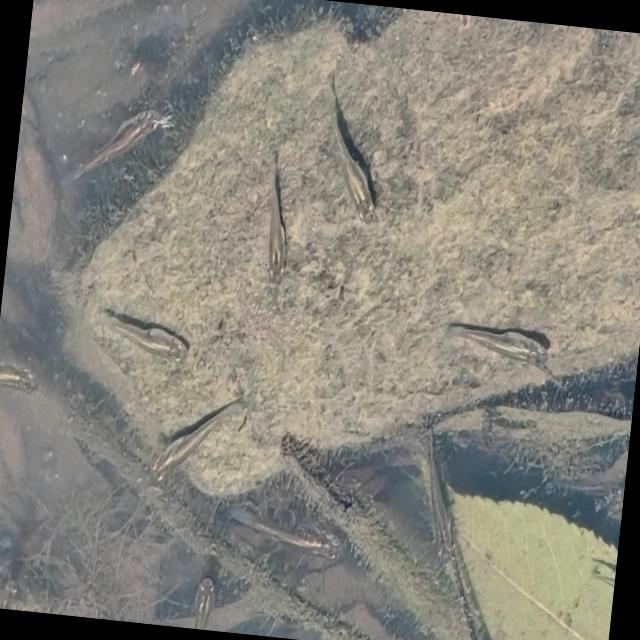Sivrisinek Baligi: (57, 88, 183, 226), (146, 377, 252, 494), (310, 82, 392, 230), (220, 500, 356, 577), (436, 311, 554, 377), (248, 152, 300, 289), (88, 306, 193, 366), (0, 349, 41, 400)
